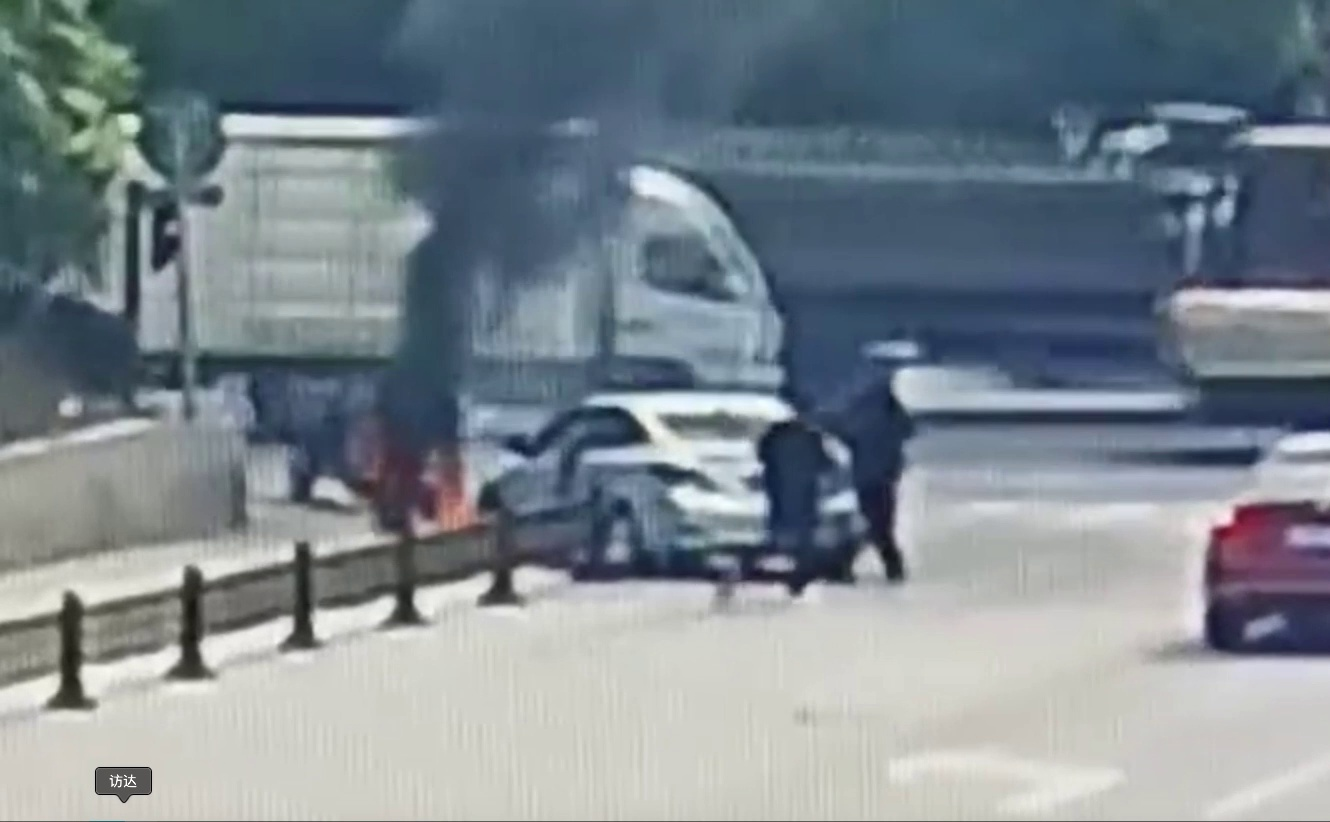smoke: (344, 113, 521, 516)
